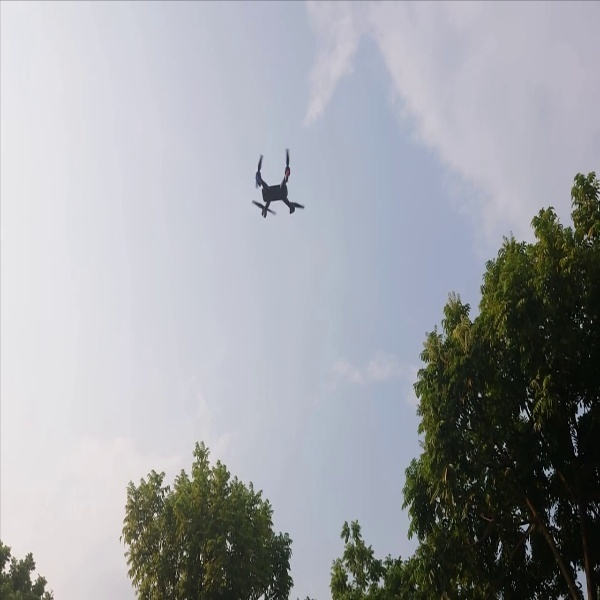drone: (242, 145, 313, 225)
